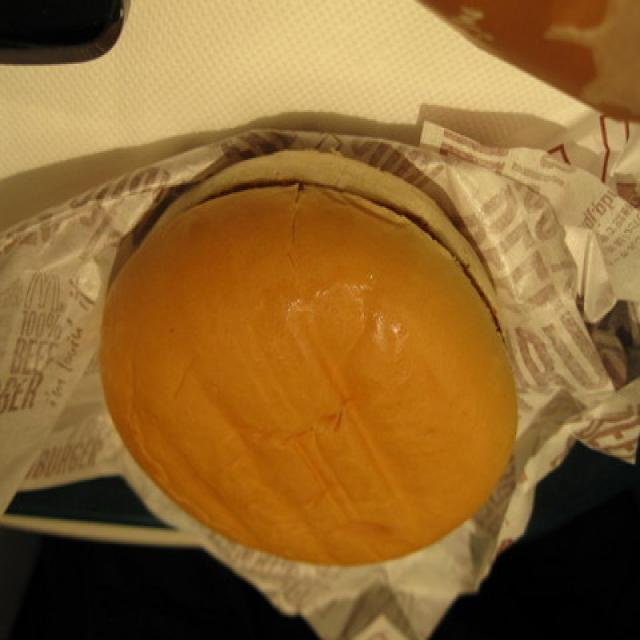Hamburger: (113, 136, 519, 560)
